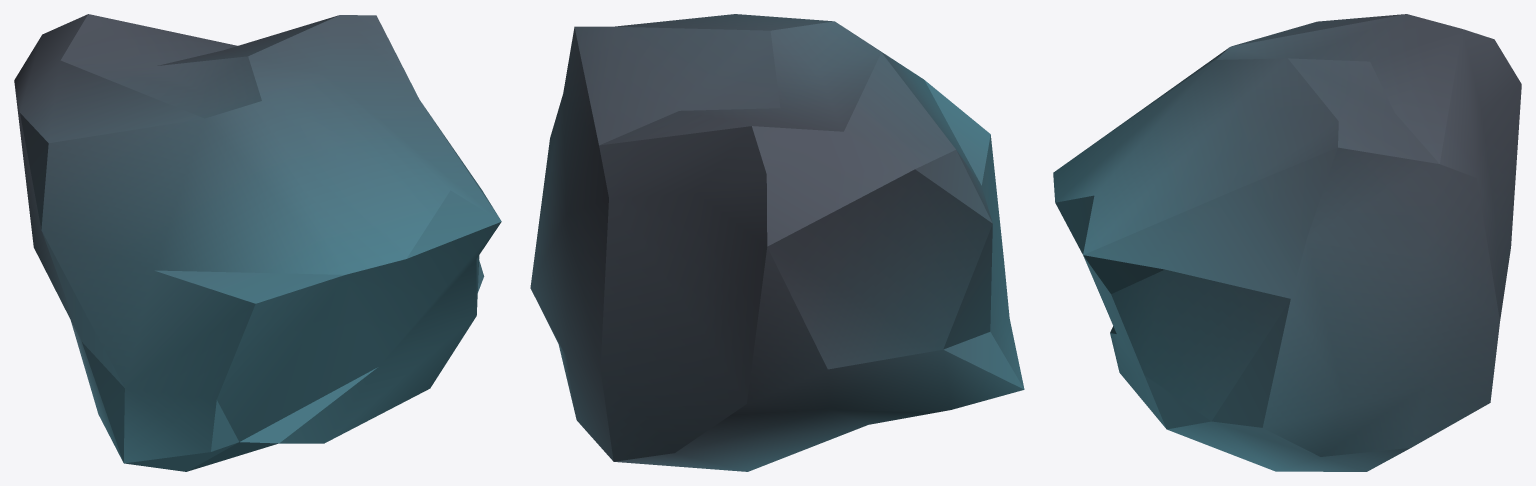
File: Stone_1a.fbx
3 views of the same model, side by side, from view 1: azimuth 30°, elevation 25°; view 2: azimuth 150°, elevation 25°; view 3: azimuth 270°, elevation 25° (orthographic). The views are drawn at different scales.
Parts seen in each view (by area): view 1: Stone_1a; view 2: Stone_1a; view 3: Stone_1a.
Boxes of the visible parts, <box> form: Stone_1a: <box>14,14,501,471</box>; Stone_1a: <box>530,14,1024,471</box>; Stone_1a: <box>1053,14,1521,471</box>.
Bounding box in the file's own units: 14.84 × 12.77 × 14.24.
